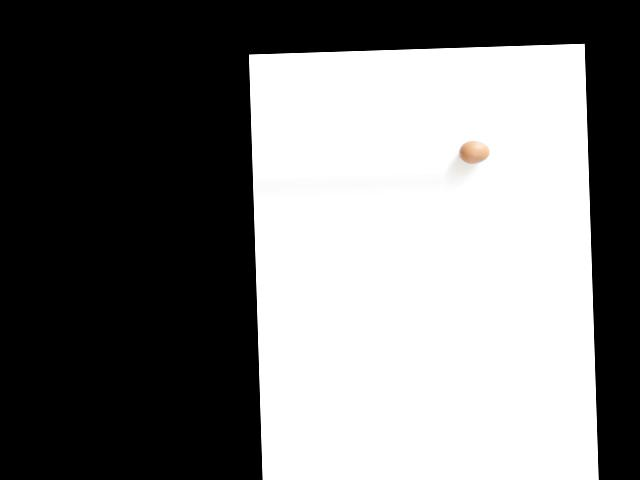egg: (458, 140, 489, 163)
